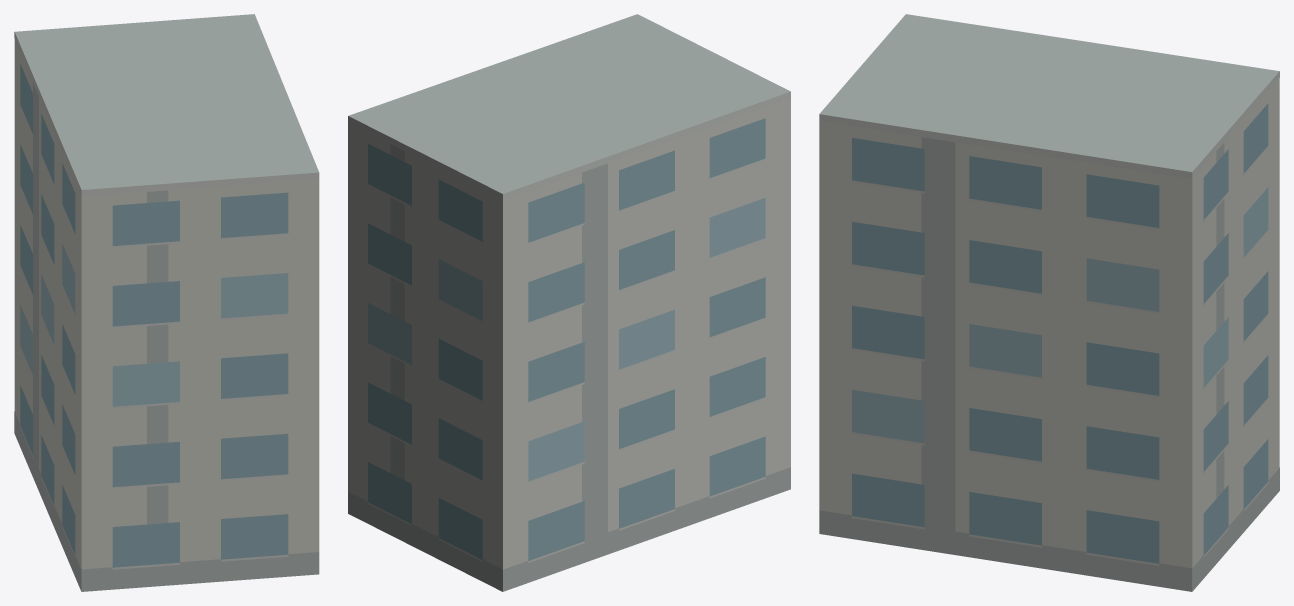
File: survey-upis-32849535.glb
3 views of the same model, side by side, from view 1: azimuth 30°, elevation 25°; view 2: azimuth 150°, elevation 25°; view 3: azimuth 270°, elevation 25° (orthographic). The views are drawn at different scales.
Visible parts, largest first — view 1: survey-upis-32849535.tmp; view 2: survey-upis-32849535.tmp; view 3: survey-upis-32849535.tmp.
Boxes of the visible parts, x1,y1,x2,y2 form: survey-upis-32849535.tmp: [14, 14, 319, 591]; survey-upis-32849535.tmp: [348, 14, 790, 591]; survey-upis-32849535.tmp: [819, 14, 1279, 591].
Size of the model in its own units: 11.76 by 14.55 by 14.47.
